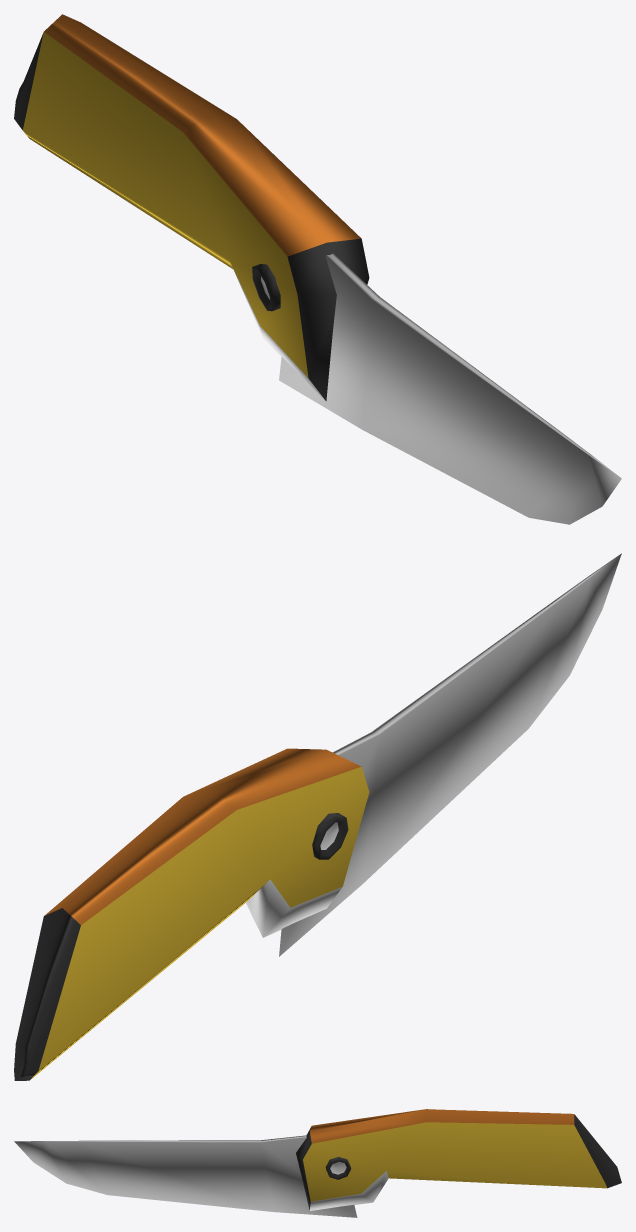
The model's file is Knife.fbx.
3 renders of one model, top to bottom at view 1: azimuth 30°, elevation 25°; view 2: azimuth 150°, elevation 25°; view 3: azimuth 270°, elevation 25°, orthographic. The views are drawn at different scales.
Visible parts, largest first — view 1: Cube; view 2: Cube; view 3: Cube.
Boxes of the visible parts, x1=… form: Cube: x1=14, y1=14, x2=621, y2=524; Cube: x1=14, y1=553, x2=621, y2=1080; Cube: x1=14, y1=1109, x2=621, y2=1217.
Size of the model in its own units: 2.13 by 5.45 by 27.62.
